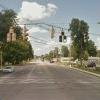Tree: (57, 16, 95, 64)
